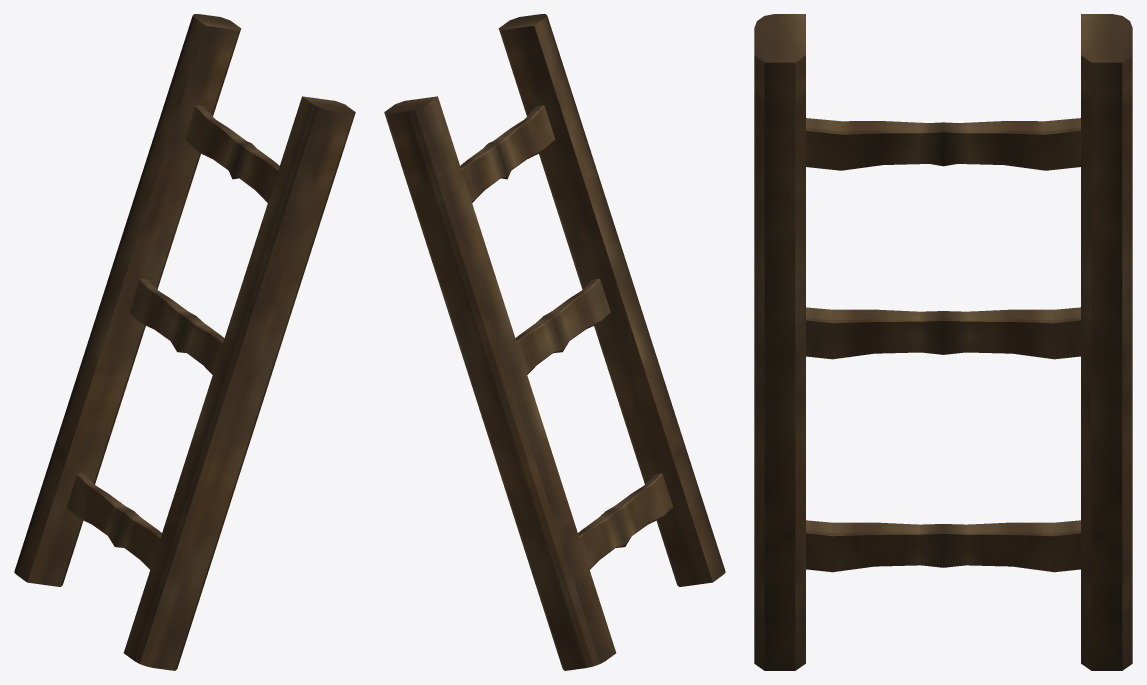
3 renders of one model, left to right at view 1: azimuth 30°, elevation 25°; view 2: azimuth 150°, elevation 25°; view 3: azimuth 270°, elevation 25°, orthographic. The views are drawn at different scales.
Parts seen in each view (by area): view 1: Cube183_atlas_puertas_0; view 2: Cube183_atlas_puertas_0; view 3: Cube183_atlas_puertas_0.
Part boxes in pixels (box(x1,y1,x2,y2)): Cube183_atlas_puertas_0: box(14, 14, 355, 670); Cube183_atlas_puertas_0: box(384, 14, 725, 670); Cube183_atlas_puertas_0: box(754, 14, 1132, 670).
Bounding box in the file's own units: 0.4172 × 0.9671 × 0.44.
1 material, 1 textured.
